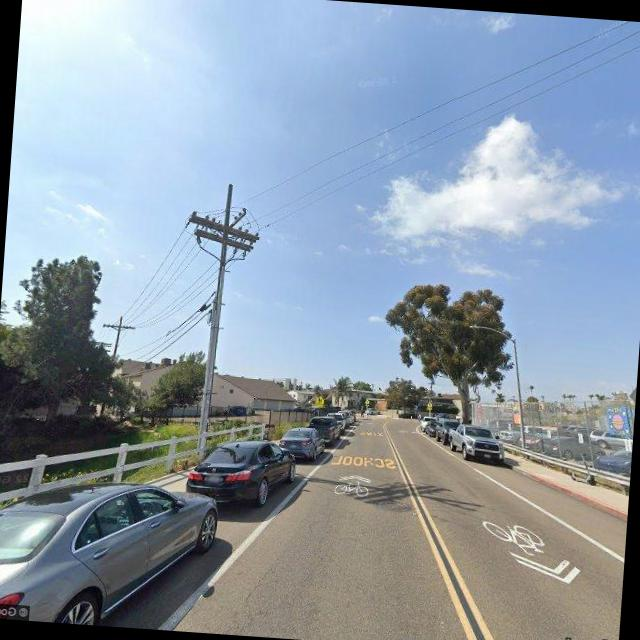pothole: (243, 560, 278, 608)
